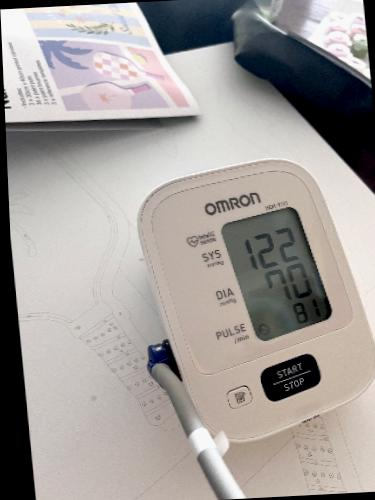bpm: (215, 197, 336, 346)
